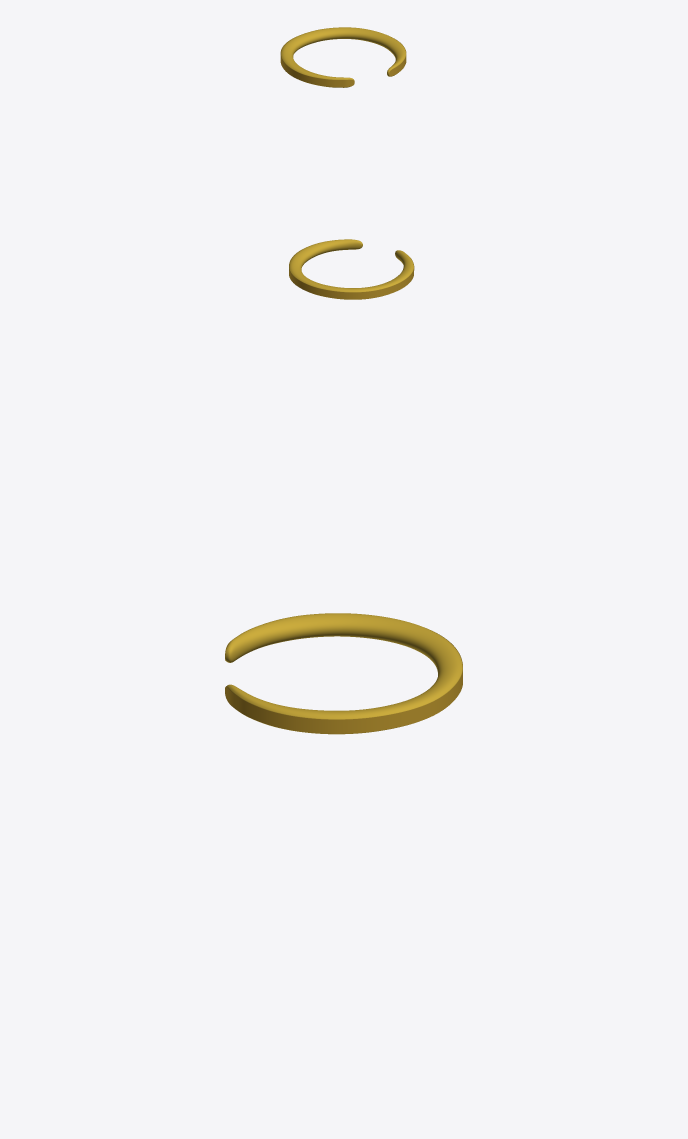
Rendered from shimada-ring.glb.
3 views of the same model, one above another, from view 1: azimuth 30°, elevation 25°; view 2: azimuth 150°, elevation 25°; view 3: azimuth 270°, elevation 25° (orthographic). The views are drawn at different scales.
Parts seen in each view (by area): view 1: ring-body, ring-body.001; view 2: ring-body, ring-body.001; view 3: ring-body, ring-body.001.
Boxes of the visible parts, box(x1,y1,x2,y2) form: ring-body: box(280, 27, 406, 87); ring-body.001: box(280, 36, 406, 87); ring-body: box(289, 239, 413, 299); ring-body.001: box(289, 252, 414, 299); ring-body: box(225, 613, 462, 734); ring-body.001: box(225, 633, 462, 733).
Size of the model in its own units: 3.06 by 0.3171 by 0.4867.
Materials: 3 (2 with a texture image).
